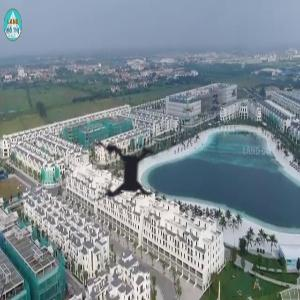drone: (57, 105, 195, 243)
